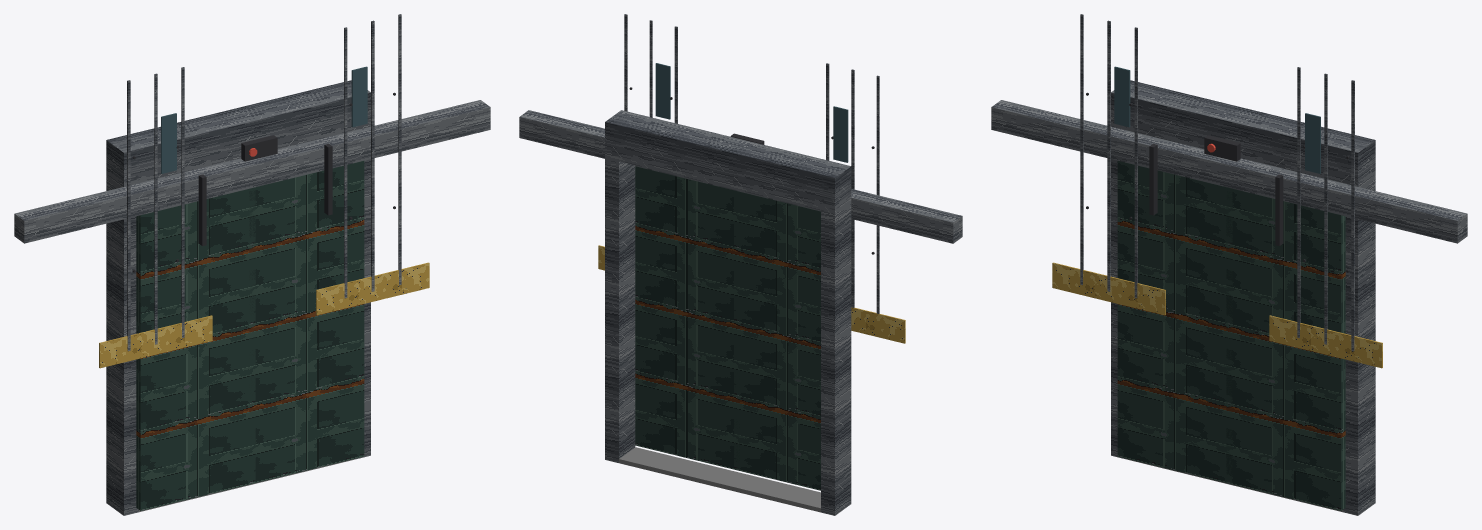
The model's file is FAC_SlidingDoor.glb.
The picture shows the model from 3 angles, left to right: view 1: azimuth 30°, elevation 25°; view 2: azimuth 150°, elevation 25°; view 3: azimuth 330°, elevation 25°; orthographic projection. The views are drawn at different scales.
Visible parts, largest first — view 1: LeafL, LeafR, Hood, Header, PostL, Haz.001, Haz, PostR, Rib, Rib.003, Rib.004, Rib.005 (+7 smaller); view 2: LeafR, LeafL, Header, PostL, PostR, Hood, Sill, Haz, Win, Win.001, Rib.001, Rib; view 3: LeafR, LeafL, Hood, Header, PostR, Haz, Haz.001, PostL, Rib.001, Rib.002, Rib.005, Rib (+7 smaller).
Part boxes in pixels (bbox=[...]): LeafL: bbox=[136, 187, 255, 510]; LeafR: bbox=[249, 161, 364, 482]; Hood: bbox=[14, 100, 490, 243]; Header: bbox=[106, 83, 355, 186]; PostL: bbox=[106, 136, 138, 515]; Haz.001: bbox=[316, 262, 429, 315]; Haz: bbox=[99, 315, 212, 368]; PostR: bbox=[339, 80, 370, 459]; Rib: bbox=[127, 80, 130, 351]; Rib.003: bbox=[344, 27, 347, 298]; Rib.004: bbox=[371, 20, 374, 291]; Rib.005: bbox=[398, 14, 401, 285]; LeafR: bbox=[635, 166, 739, 470]; LeafL: bbox=[734, 190, 820, 490]; Header: bbox=[605, 110, 851, 212]; PostL: bbox=[821, 164, 851, 515]; PostR: bbox=[605, 114, 635, 462]; Hood: bbox=[519, 110, 962, 243]; Sill: bbox=[619, 447, 820, 512]; Haz: bbox=[851, 307, 905, 343]; Win: bbox=[833, 106, 848, 162]; Win.001: bbox=[655, 63, 670, 119]; Rib.001: bbox=[851, 69, 854, 307]; Rib: bbox=[876, 75, 879, 313]; LeafR: bbox=[1226, 188, 1345, 510]; LeafL: bbox=[1117, 161, 1232, 483]; Hood: bbox=[991, 100, 1467, 243]; Header: bbox=[1111, 83, 1375, 186]; PostR: bbox=[1343, 136, 1375, 515]; Haz: bbox=[1052, 262, 1165, 315]; Haz.001: bbox=[1269, 315, 1382, 368]; PostL: bbox=[1111, 80, 1142, 459]; Rib.001: bbox=[1107, 20, 1110, 291]; Rib.002: bbox=[1134, 27, 1137, 298]; Rib.005: bbox=[1351, 80, 1354, 351]; Rib: bbox=[1080, 14, 1083, 285].
Bounding box in the file's own units: 4.3 × 3.97 × 0.6.
Materials: 7 (3 with a texture image).
